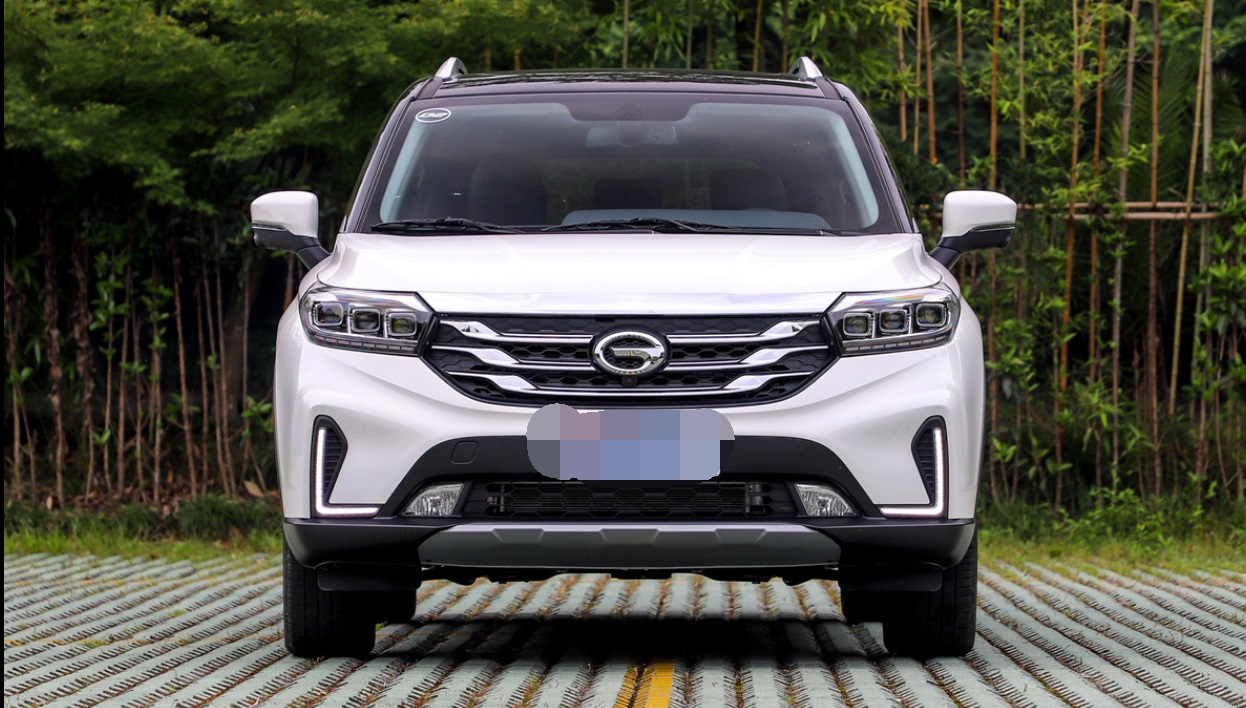SUV: (241, 50, 1022, 665)
